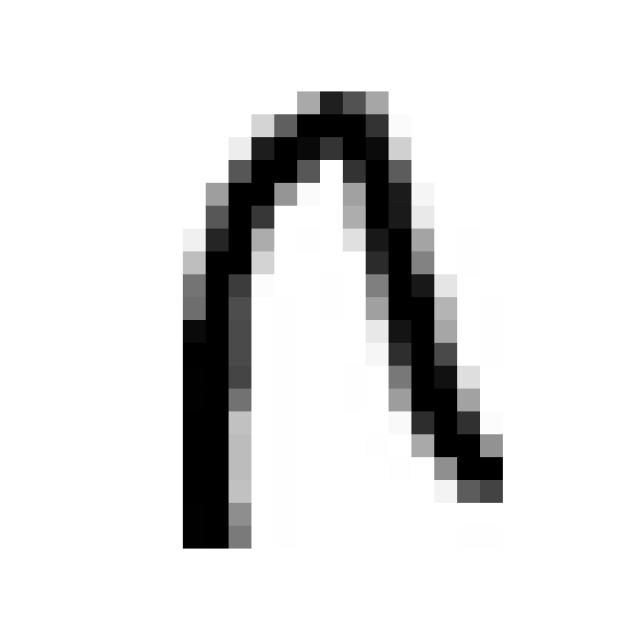8 -eight-: (151, 68, 518, 578)
